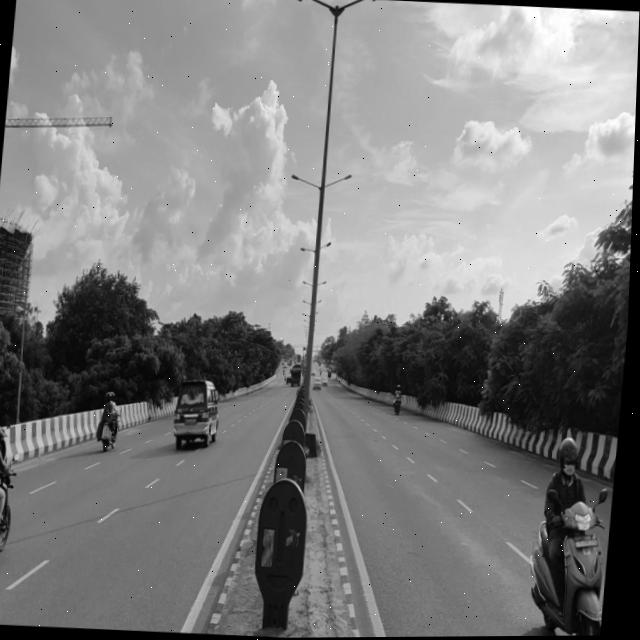bike: (531, 434, 621, 637), (0, 406, 26, 585), (98, 382, 128, 464)
car: (172, 375, 229, 455)
